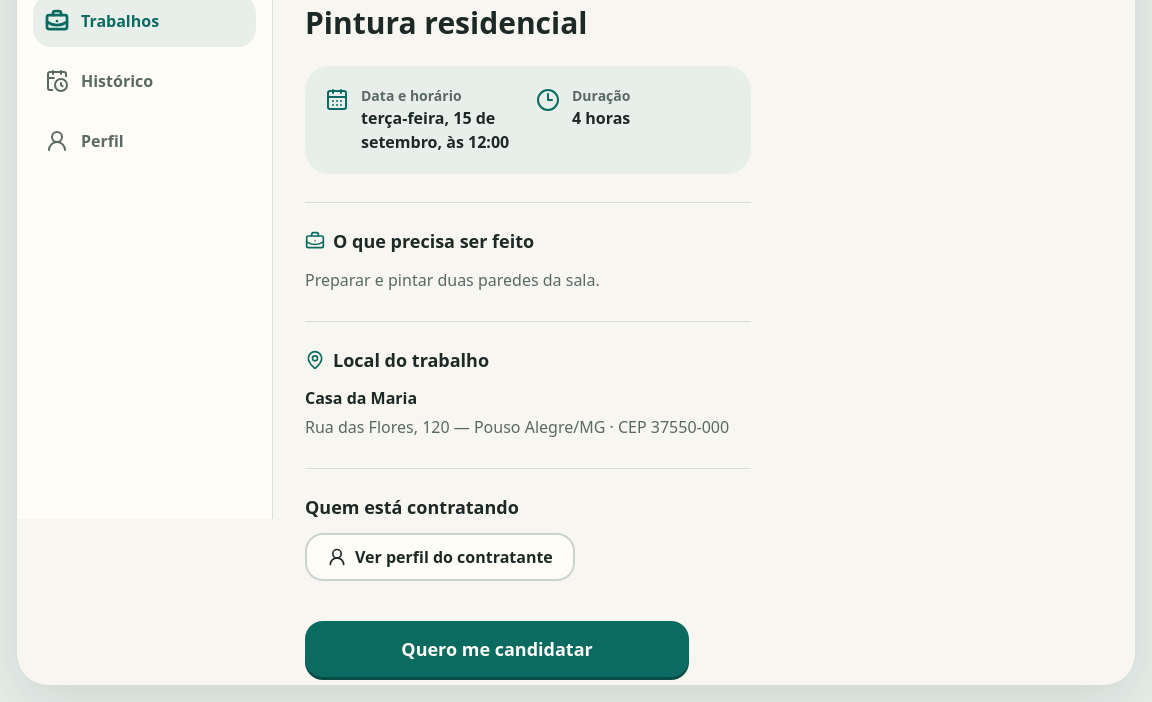
Test: worker job flow › confirms the candidacy as soon as the request succeeds
The image size is (1152, 702).
(page scrolled)
Click the button "Quero me candidatar": (497, 648) [305, 620, 689, 676]
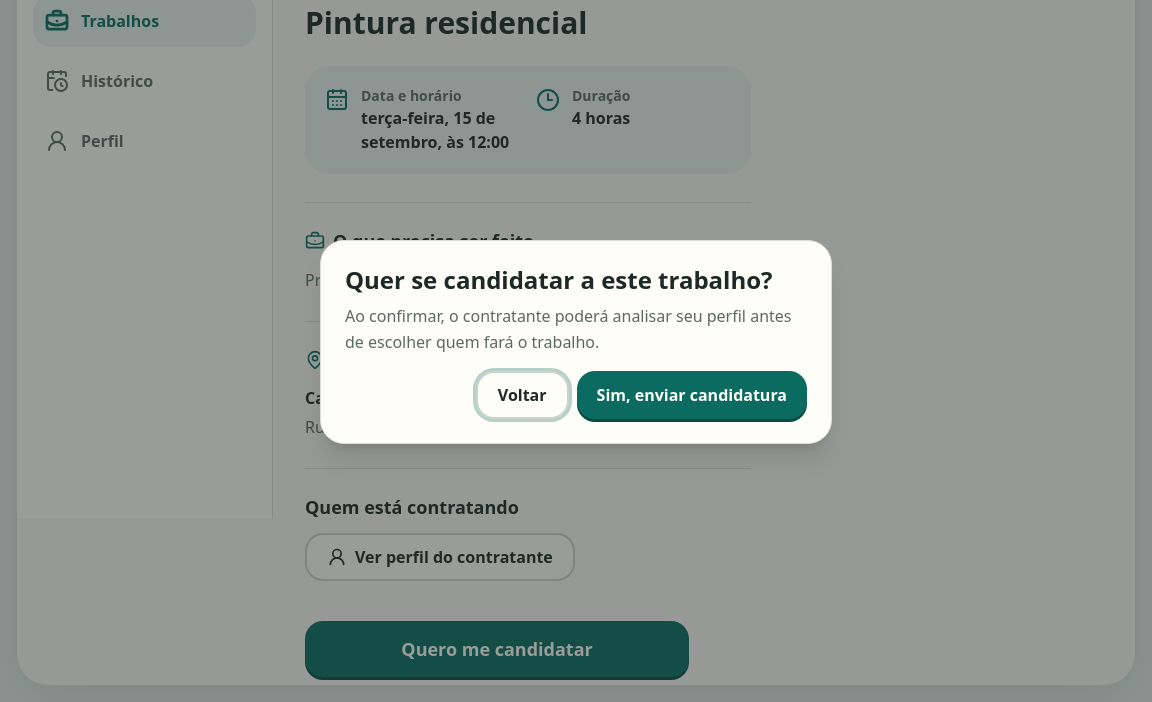
Check: the heading "Quer se candidatar a este trabalho?" is shown, box [345, 265, 807, 295]
Click the button "Sim, enviar candidatura": (692, 395) [577, 371, 807, 419]
(page scrolled)
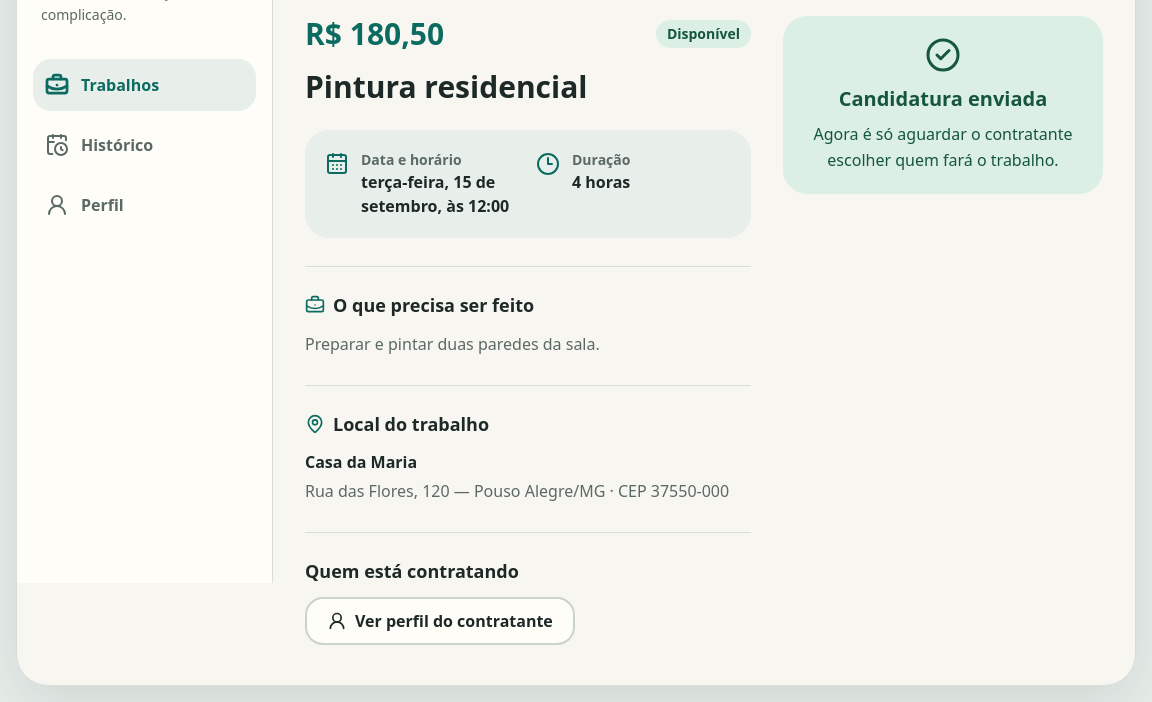
Check: the heading "Candidatura enviada" is shown, box [839, 85, 1047, 112]
